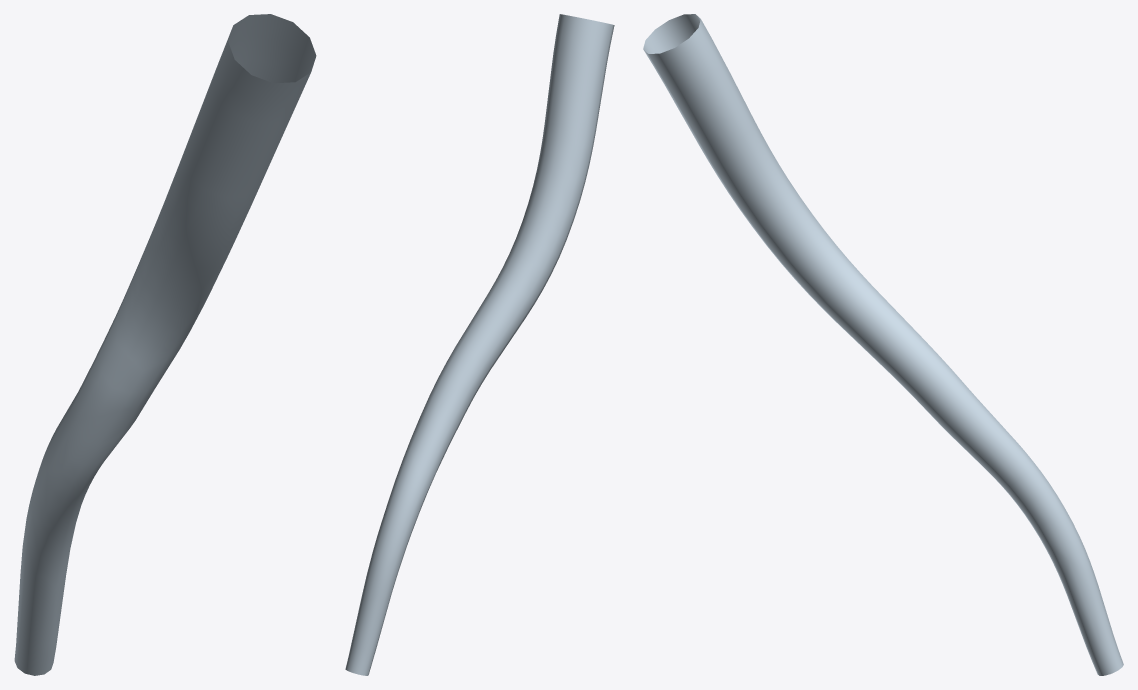
Rendered from visceras-posterior-basal-segmental-bronchus-of-left-lung-bx.glb.
The picture shows the model from 3 angles, left to right: view 1: azimuth 30°, elevation 25°; view 2: azimuth 150°, elevation 25°; view 3: azimuth 270°, elevation 25°; orthographic projection. The views are drawn at different scales.
Visible parts, largest first — view 1: Posterior basal segmental bronchus of left lung (BX); view 2: Posterior basal segmental bronchus of left lung (BX); view 3: Posterior basal segmental bronchus of left lung (BX).
Part boxes in pixels (x1,y1,x2,y2): Posterior basal segmental bronchus of left lung (BX): (14,14,316,675); Posterior basal segmental bronchus of left lung (BX): (345,14,614,675); Posterior basal segmental bronchus of left lung (BX): (643,14,1123,675).
Bounding box in the file's own units: 0.0119 × 0.074 × 0.0512.
